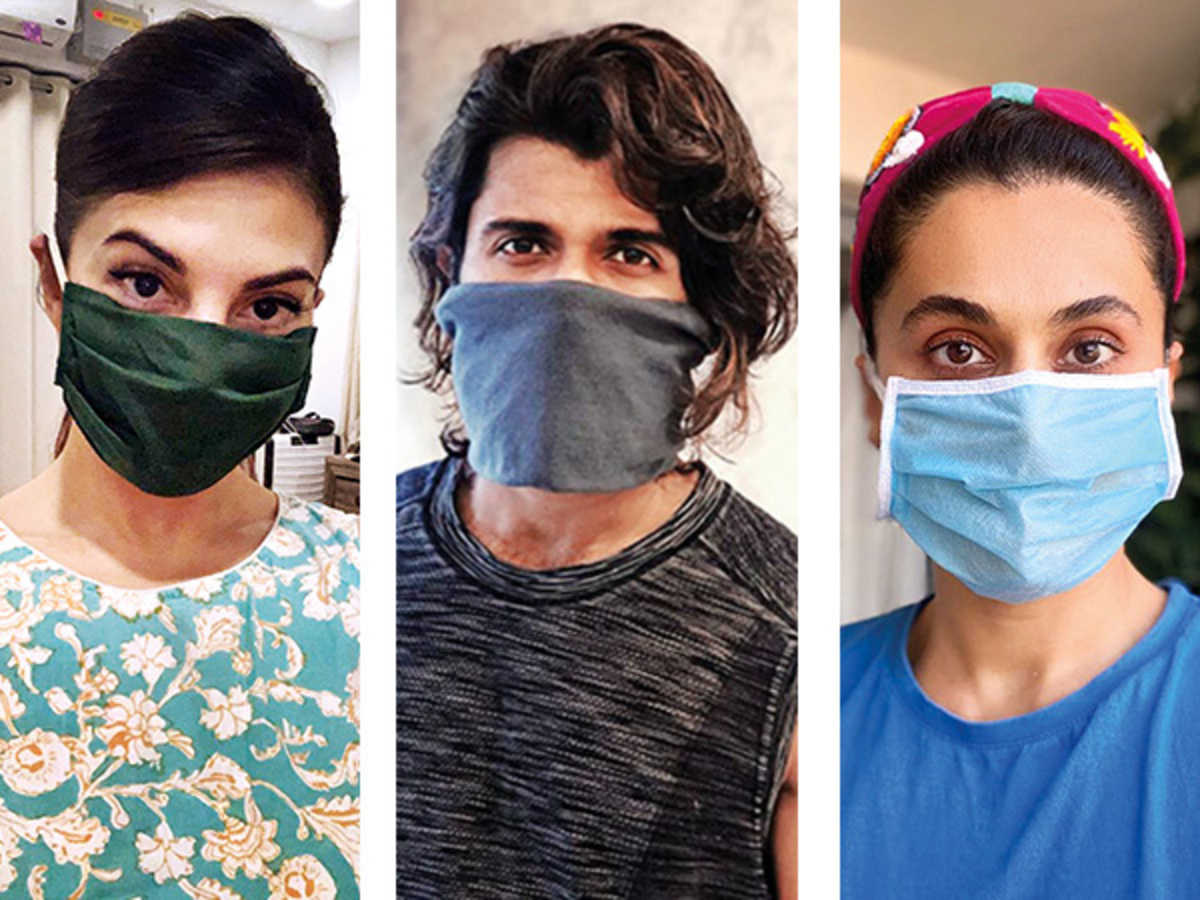Mask: (876, 368, 1196, 597), (418, 274, 719, 491), (36, 269, 329, 488)
